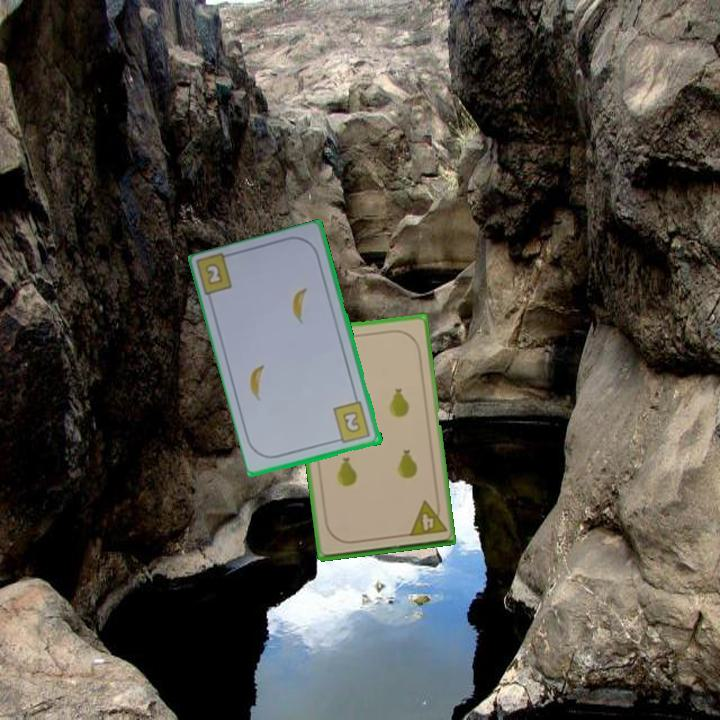2b: (330, 398, 373, 446), (201, 260, 226, 288)
4p: (405, 496, 449, 539)
